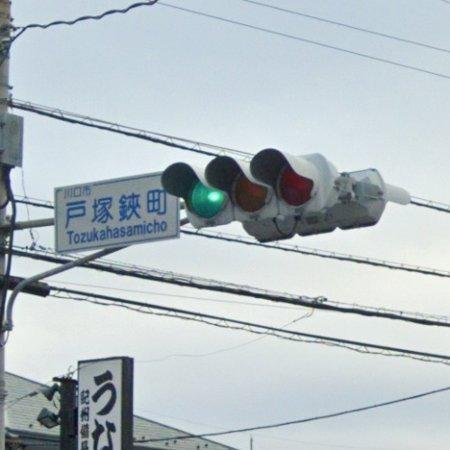traffic lights: (160, 145, 337, 229), (243, 165, 414, 243)
